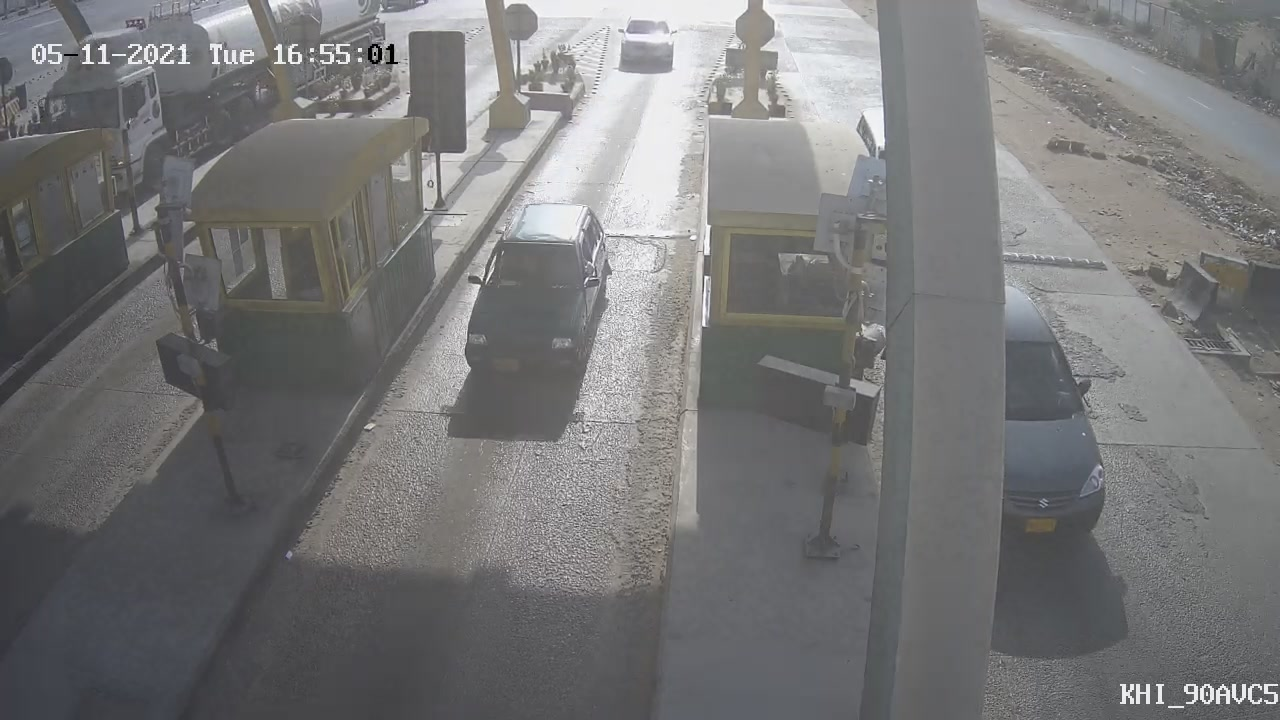F1: (438, 181, 634, 403)
